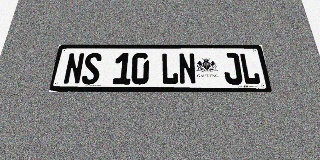0: (131, 53, 149, 85)
1: (113, 53, 132, 85)
J: (222, 53, 243, 85)
L: (239, 53, 261, 85), (161, 53, 179, 85)
N: (63, 53, 85, 85), (178, 53, 197, 85)
S: (81, 53, 102, 85)
